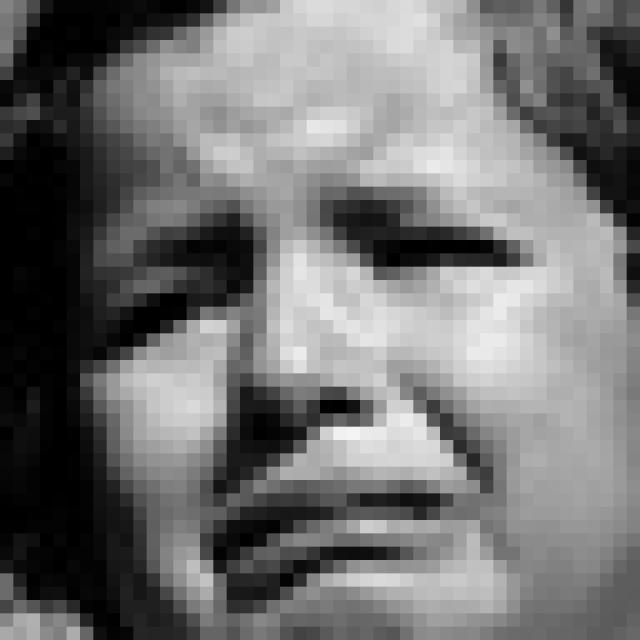sad: (79, 91, 546, 611)
